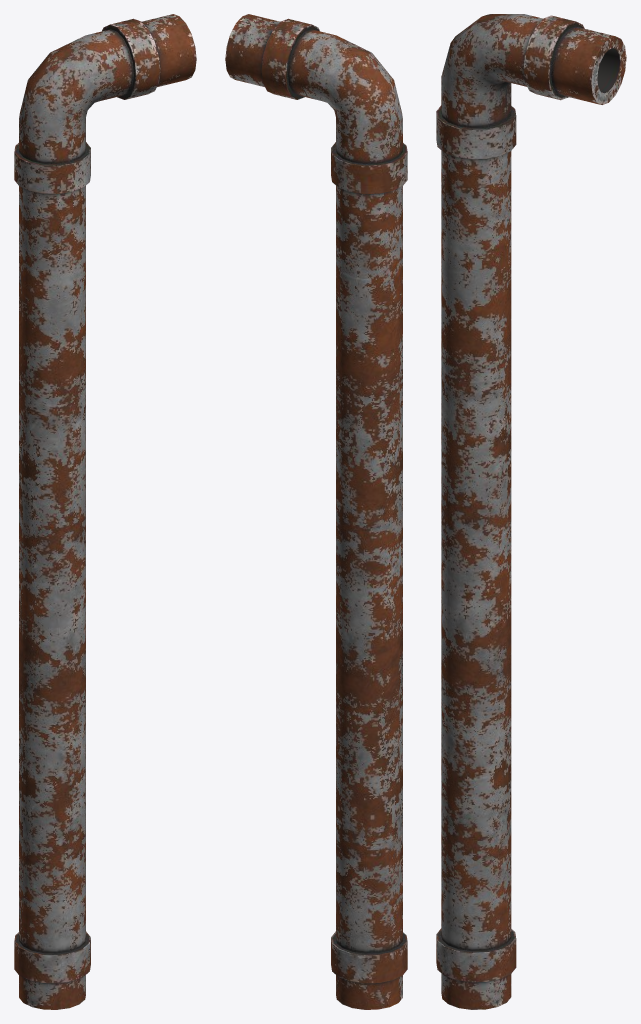
File: rusty-pipe.glb
The picture shows the model from 3 angles, left to right: view 1: azimuth 30°, elevation 25°; view 2: azimuth 150°, elevation 25°; view 3: azimuth 330°, elevation 25°; orthographic projection. The views are drawn at different scales.
Visible parts, largest first — view 1: Rusty_pipe; view 2: Rusty_pipe; view 3: Rusty_pipe.
Part boxes in pixels (x1,y1,x2,y2): Rusty_pipe: [14, 14, 196, 1009]; Rusty_pipe: [225, 14, 407, 1009]; Rusty_pipe: [436, 14, 626, 1009].
Size of the model in its own units: 0.0955 by 0.5414 by 0.0398.
1 material, 1 textured.
